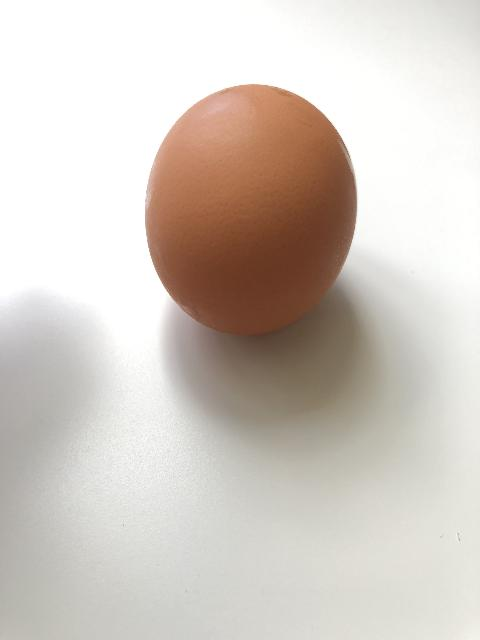Sano: (143, 82, 358, 336)
